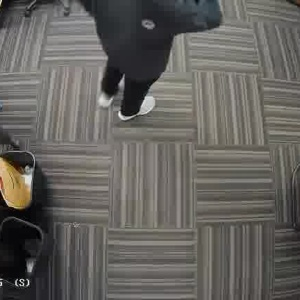person: (79, 0, 191, 125)
